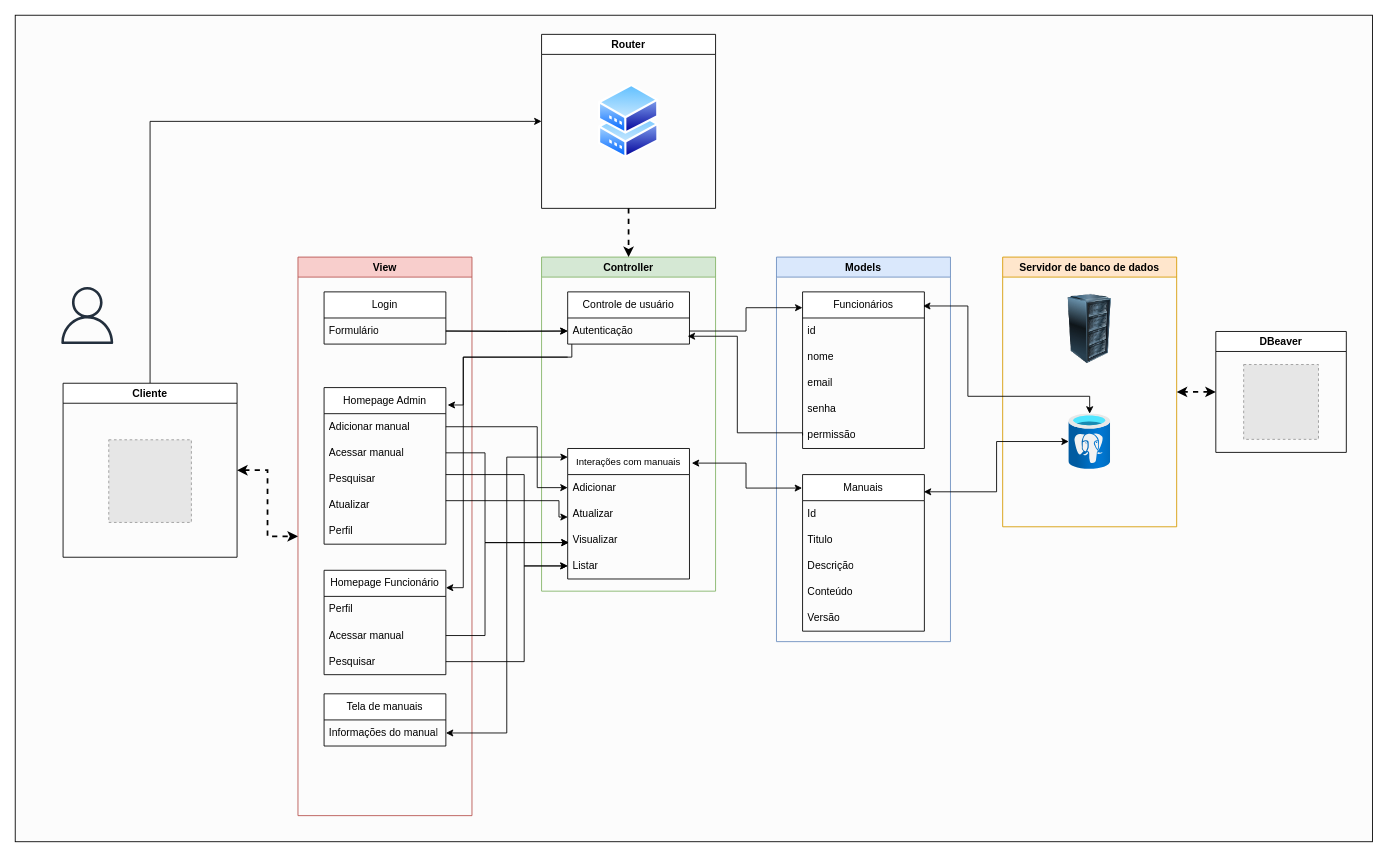
This 1388x857 diagram has some shape labels left out. Grey dashed boxes stand in for pictures. Each missing label, with the centre of its shape:
"PostgreSQL" belongs at [1089,441].
"Render" belongs at [1089,328].
"Usuário" belongs at [86,315].
